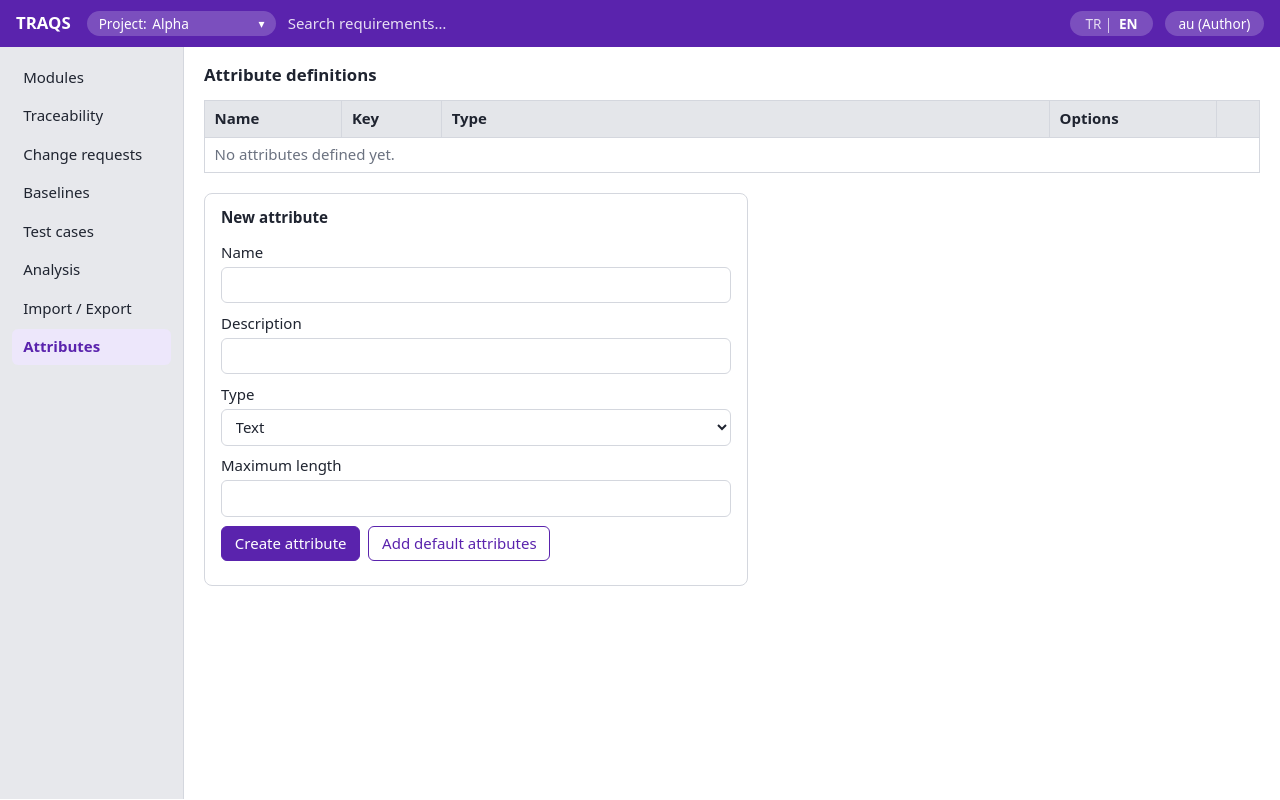
it: Attribute definition screen › shows why the server rejected an attribute
This screenshot has width=1280, height=800.
Step 1. Type "Risk" into the field labelled "Name" → (476, 285), box [221,267,731,303]
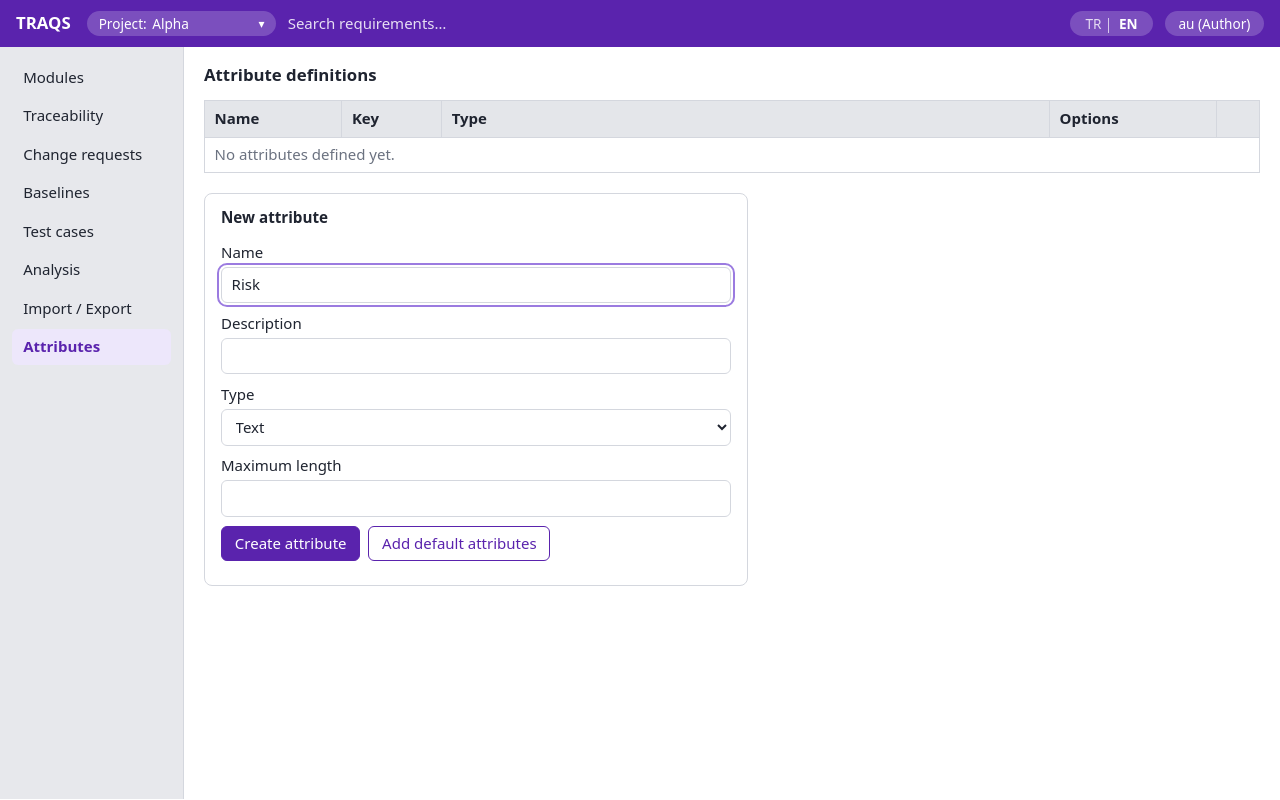
Step 2. Select "Enumeration" in the dropdown labelled "Type" → (476, 427), box [221,409,731,446]
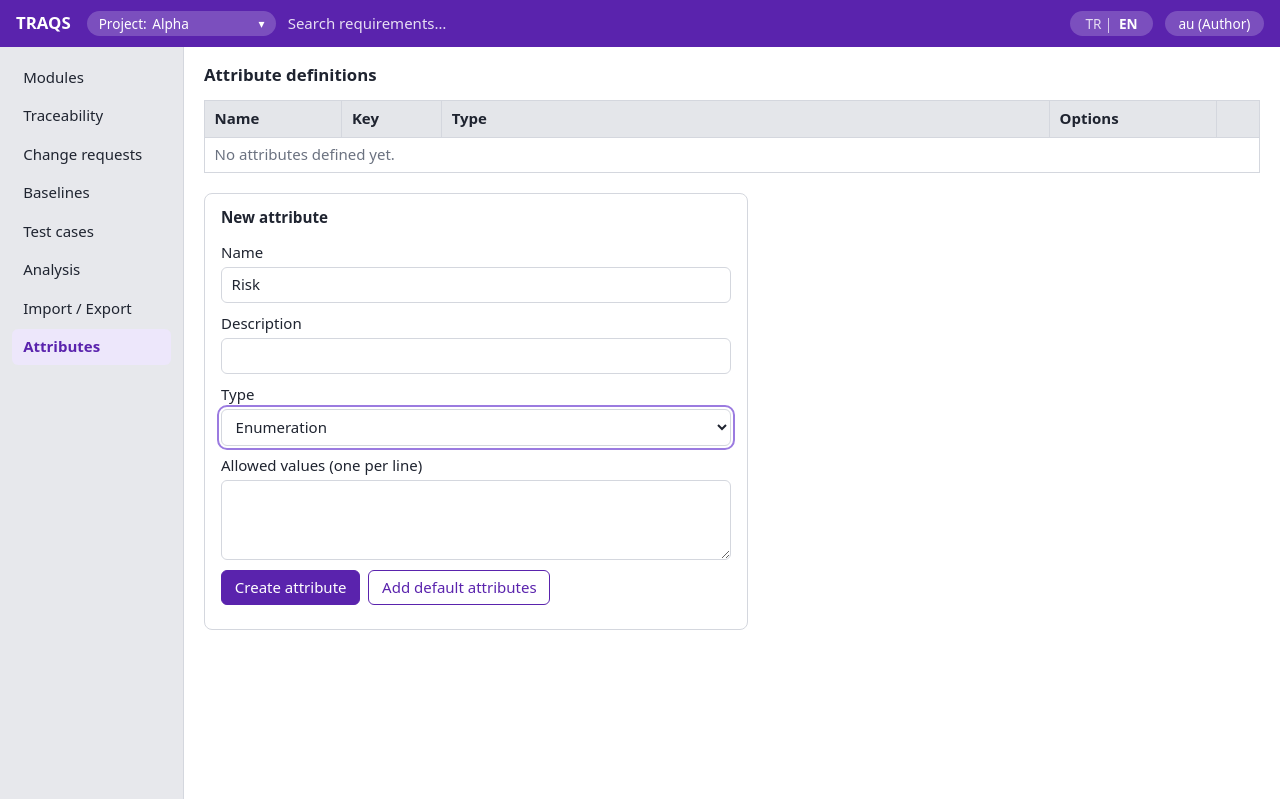
Step 3. Click the button "Create attribute" → click(291, 587), box [221,570,360,605]
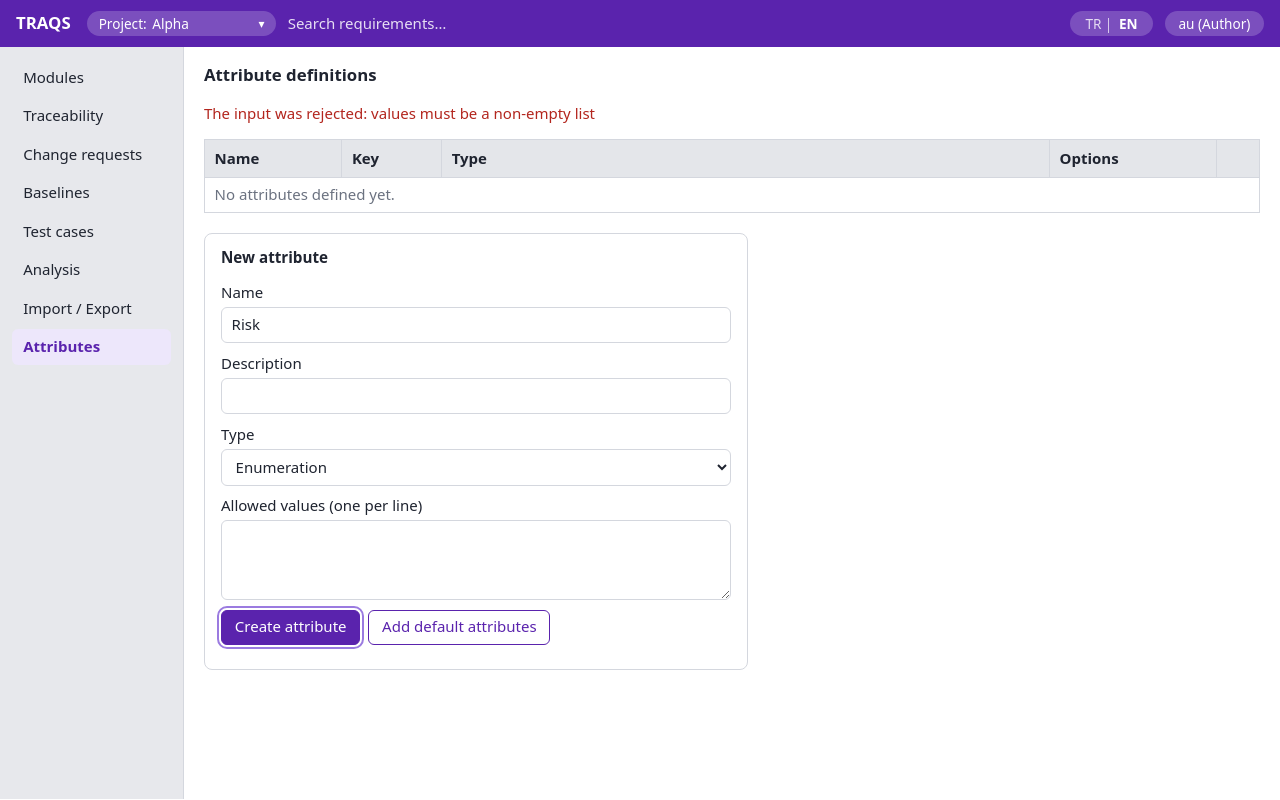
Now the message shows "values must be a non-empty list", box [204,103,595,123]
